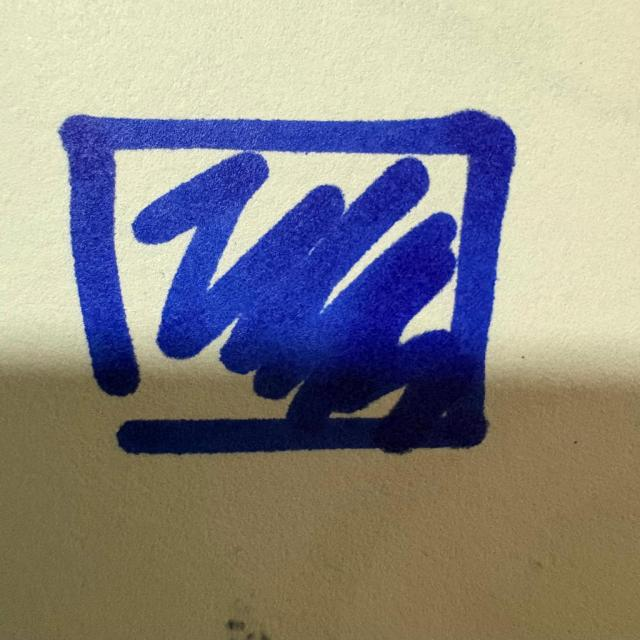Square: (48, 101, 509, 459)
